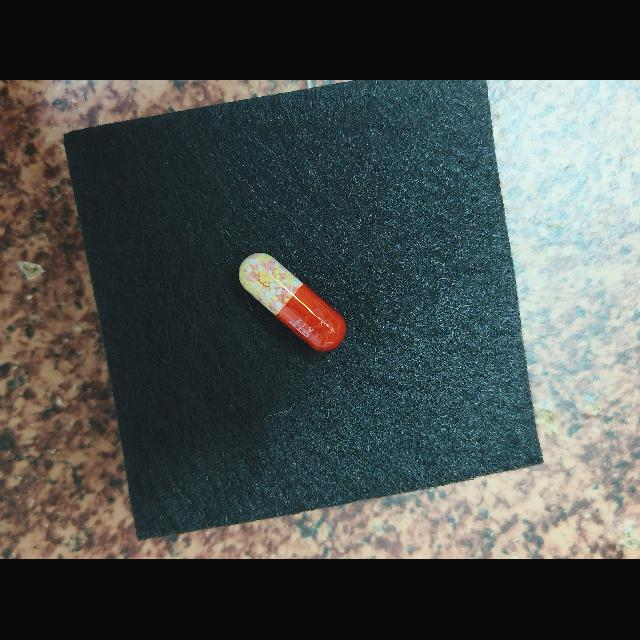Intact Capsule: (238, 253, 346, 352)
